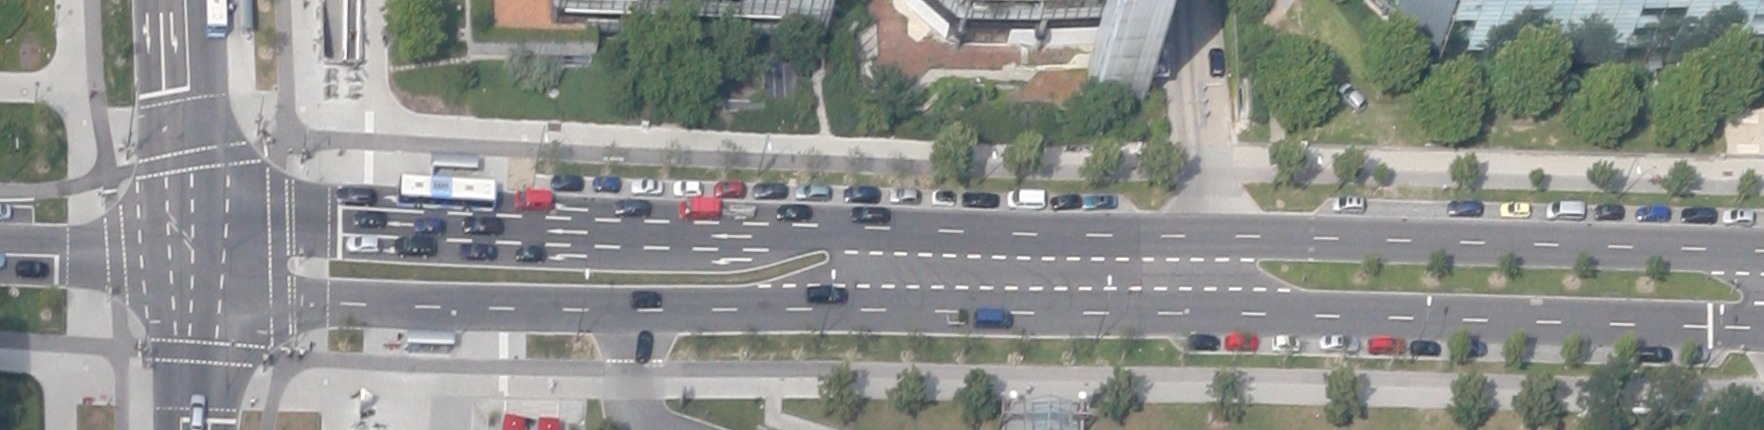car: (1335, 80, 1368, 113), (395, 234, 435, 257), (679, 197, 718, 220), (1545, 199, 1584, 221), (514, 188, 551, 210), (335, 183, 373, 205), (461, 216, 503, 235), (1007, 187, 1044, 208), (843, 183, 880, 204), (805, 286, 847, 304), (974, 307, 1011, 326), (458, 242, 497, 260), (15, 259, 49, 279), (849, 205, 888, 223), (614, 198, 651, 216), (1367, 335, 1404, 353), (633, 329, 652, 364), (1318, 334, 1358, 351), (345, 233, 379, 252), (1447, 199, 1482, 217), (352, 210, 386, 229), (962, 191, 998, 208), (1680, 206, 1714, 223), (1083, 192, 1118, 209), (1637, 344, 1669, 362), (189, 392, 205, 429), (1331, 195, 1365, 212), (1721, 207, 1753, 225), (1187, 332, 1219, 349), (775, 204, 810, 220), (1635, 205, 1669, 221), (713, 180, 744, 198), (1225, 333, 1257, 350), (1498, 200, 1530, 217), (795, 183, 829, 199), (753, 182, 784, 199), (630, 177, 661, 194), (630, 290, 661, 307), (1271, 333, 1300, 351), (514, 245, 544, 262), (1593, 203, 1623, 220), (672, 178, 700, 196), (413, 217, 442, 234), (1208, 48, 1225, 78), (592, 174, 619, 192), (1410, 339, 1440, 355), (889, 187, 919, 203), (728, 201, 754, 220), (551, 174, 580, 190), (1052, 192, 1079, 209), (931, 188, 954, 206), (944, 310, 967, 325)
